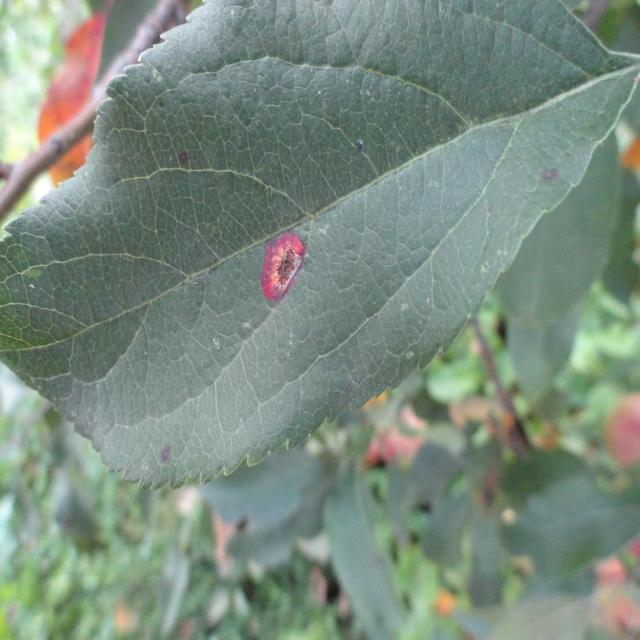rust: (0, 0, 638, 492)
